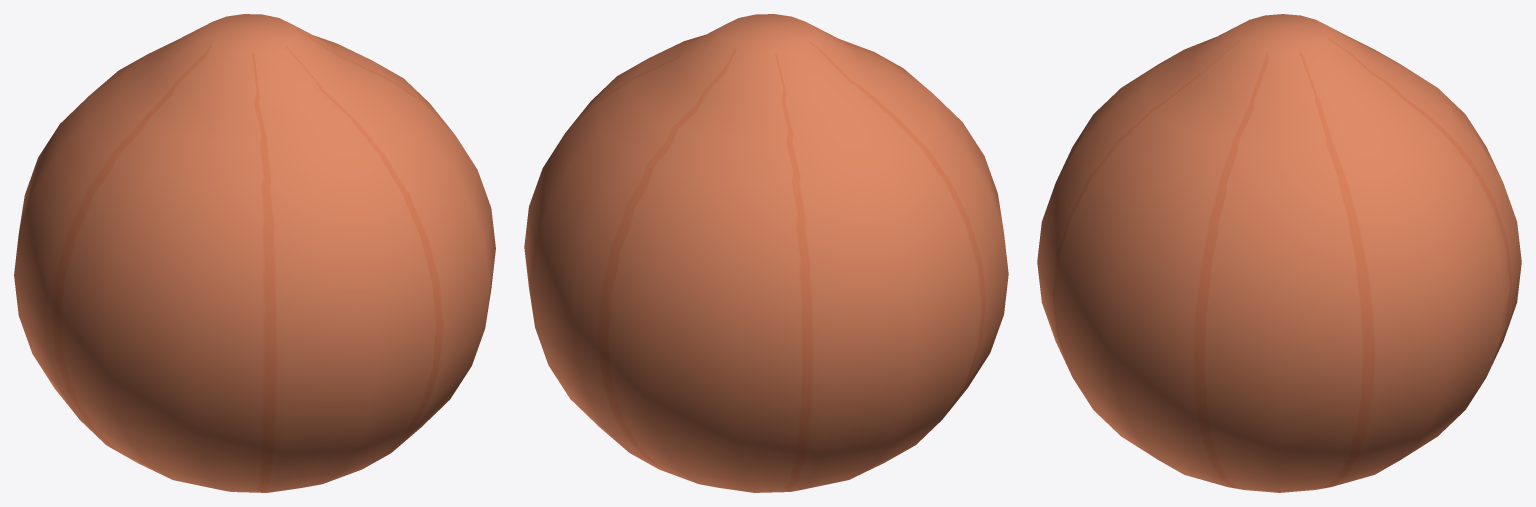
Rendered from onion.fbx.
3 views of the same model, side by side, from view 1: azimuth 30°, elevation 25°; view 2: azimuth 150°, elevation 25°; view 3: azimuth 270°, elevation 25° (orthographic).
Parts seen in each view (by area): view 1: Cylinder.002; view 2: Cylinder.002; view 3: Cylinder.002.
Boxes of the visible parts, box(x1,y1,x2,y2) form: Cylinder.002: box(14, 14, 495, 492); Cylinder.002: box(524, 14, 1008, 492); Cylinder.002: box(1037, 14, 1521, 492).
Size of the model in its own units: 45 by 44.89 by 45.
